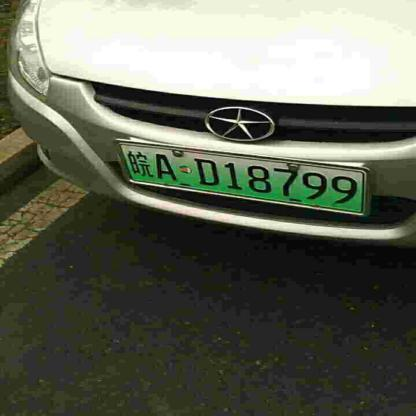lp: (118, 144, 366, 212)
